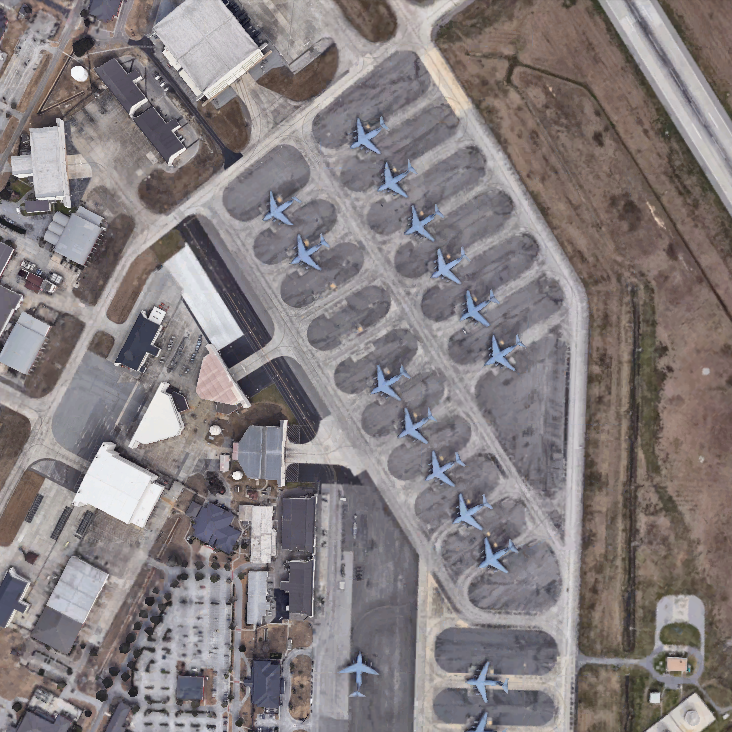A3: (337, 647, 382, 699), (463, 658, 509, 705), (402, 201, 445, 244), (348, 113, 389, 156), (485, 332, 526, 374), (369, 362, 411, 403), (424, 450, 467, 490), (289, 231, 330, 272), (452, 493, 494, 533), (375, 159, 418, 198), (260, 190, 302, 229), (478, 536, 520, 575), (397, 407, 437, 447), (460, 290, 500, 329), (431, 247, 469, 287)
